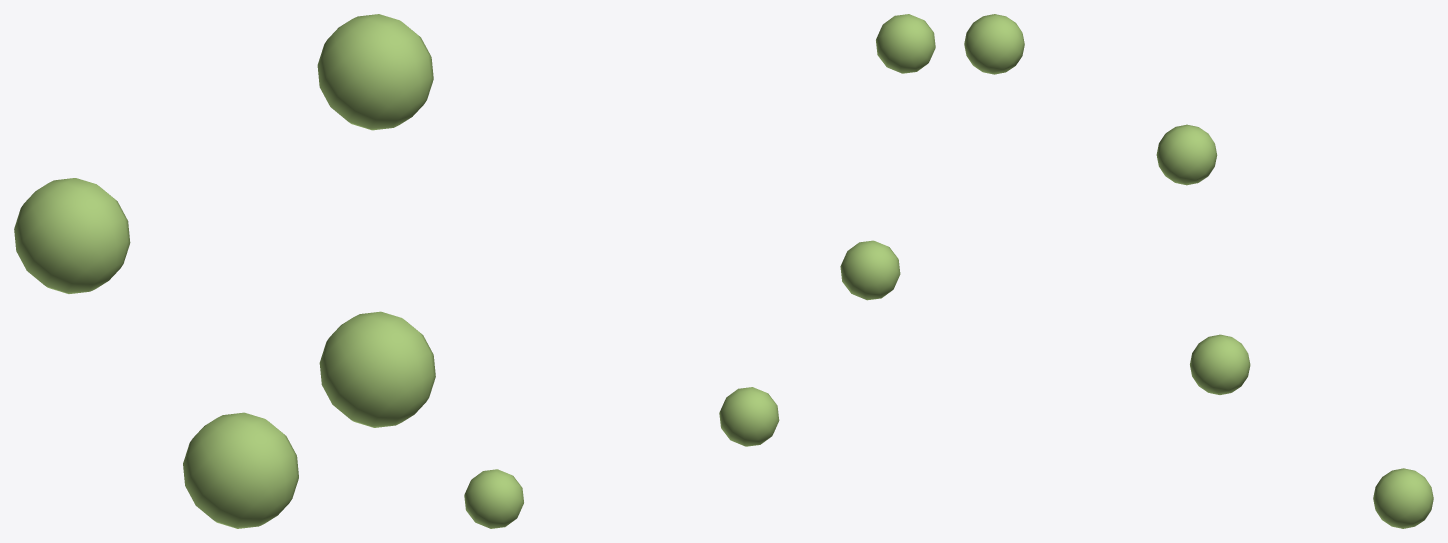
Rendered from superior-gluteal-nodes-l.glb.
3 views of the same model, side by side, from view 1: azimuth 30°, elevation 25°; view 2: azimuth 150°, elevation 25°; view 3: azimuth 270°, elevation 25° (orthographic). The views are drawn at different scales.
Parts seen in each view (by area): view 1: Superior gluteal nodes.l; view 2: Superior gluteal nodes.l; view 3: Superior gluteal nodes.l.
Boxes of the visible parts, x1,y1,x2,y2 form: Superior gluteal nodes.l: [14, 14, 435, 528]; Superior gluteal nodes.l: [464, 14, 935, 528]; Superior gluteal nodes.l: [964, 14, 1433, 528].
Size of the model in its own units: 0.0157 by 0.0193 by 0.0201.
